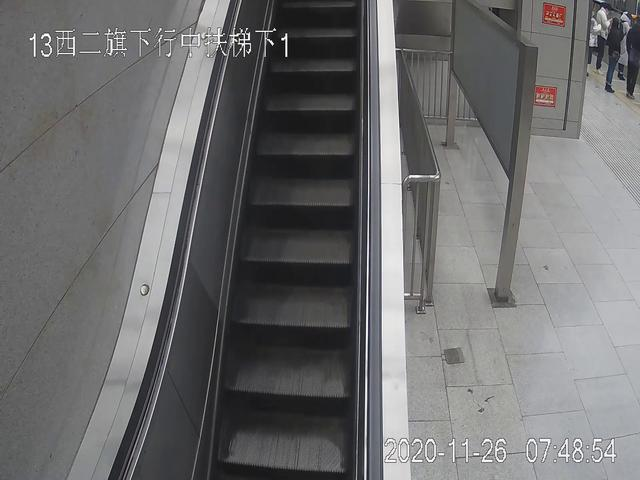person: (604, 15, 624, 93)
